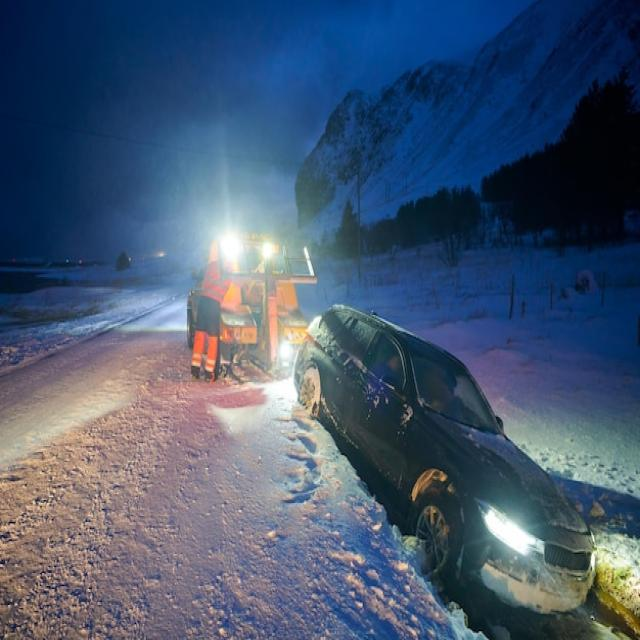Accident: (292, 299, 596, 625)
